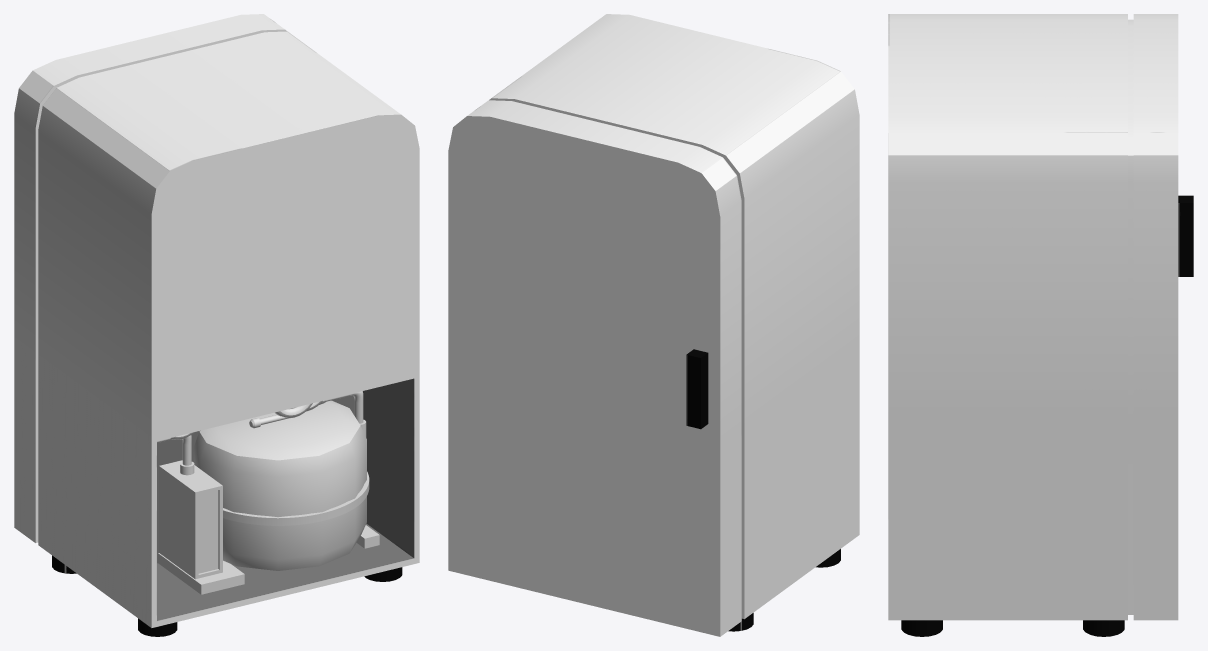
The model's file is Fridge_with_compreesor.FBX.
The picture shows the model from 3 angles, left to right: view 1: azimuth 30°, elevation 25°; view 2: azimuth 150°, elevation 25°; view 3: azimuth 270°, elevation 25°; orthographic projection. The views are drawn at different scales.
Visible parts, largest first — view 1: Fridge_with_slot, Compressor; view 2: Fridge_with_slot; view 3: Fridge_with_slot.
Part boxes in pixels (x1,y1,x2,y2): Fridge_with_slot: [14, 14, 419, 636]; Compressor: [157, 391, 379, 594]; Fridge_with_slot: [448, 14, 859, 636]; Fridge_with_slot: [888, 14, 1193, 636].
Bounding box in the file's own units: 16.27 × 27.56 × 15.22.
1 material, 1 textured.
